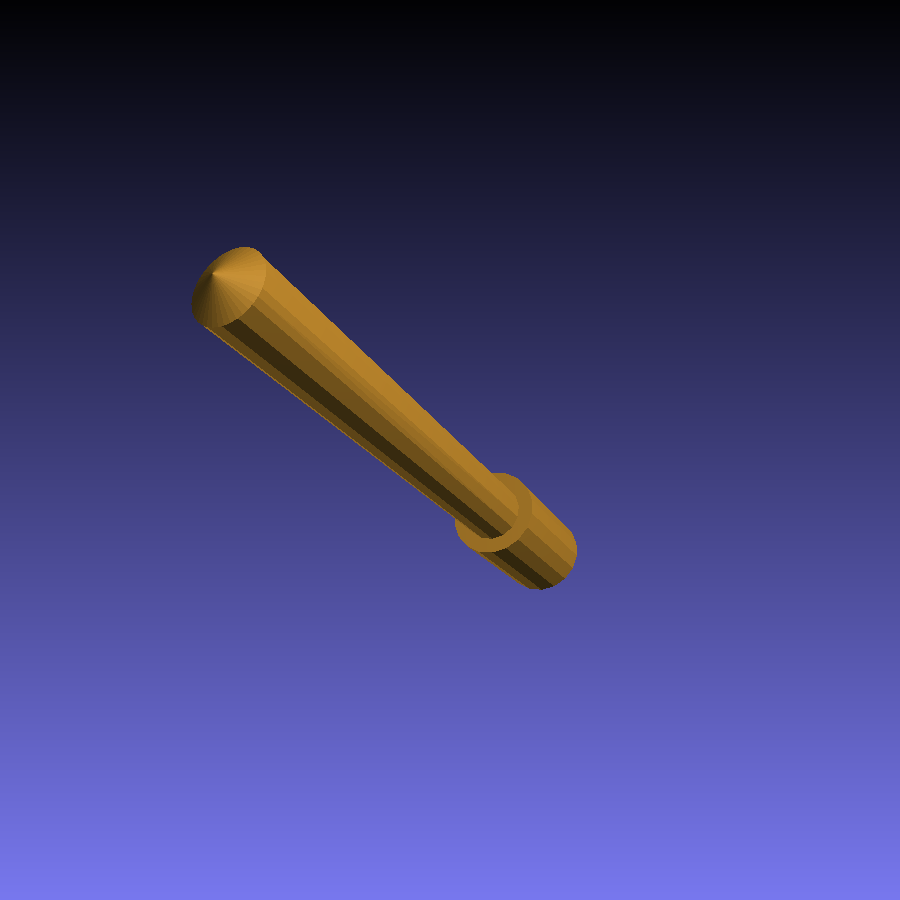cargo_g: (191, 246, 579, 592)
